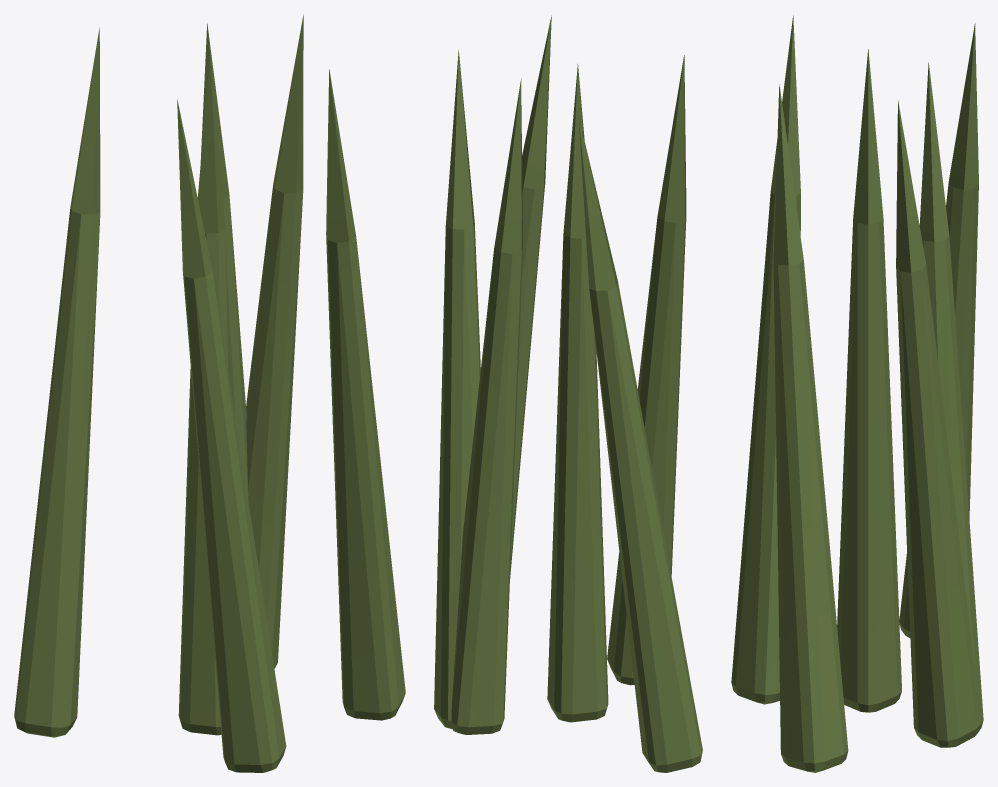
File: prop_reed.glb
The picture shows the model from 3 angles, left to right: view 1: azimuth 30°, elevation 25°; view 2: azimuth 150°, elevation 25°; view 3: azimuth 270°, elevation 25°; orthographic projection. The views are drawn at different scales.
Parts seen in each view (by area): view 1: prop_reed_part_0; view 2: prop_reed_part_0; view 3: prop_reed_part_0.
Boxes of the visible parts, <box> form: prop_reed_part_0: <box>14,14,405,772</box>; prop_reed_part_0: <box>434,15,702,772</box>; prop_reed_part_0: <box>731,15,983,772</box>.
Size of the model in its own units: 0.4522 by 0.8931 by 0.3106.
